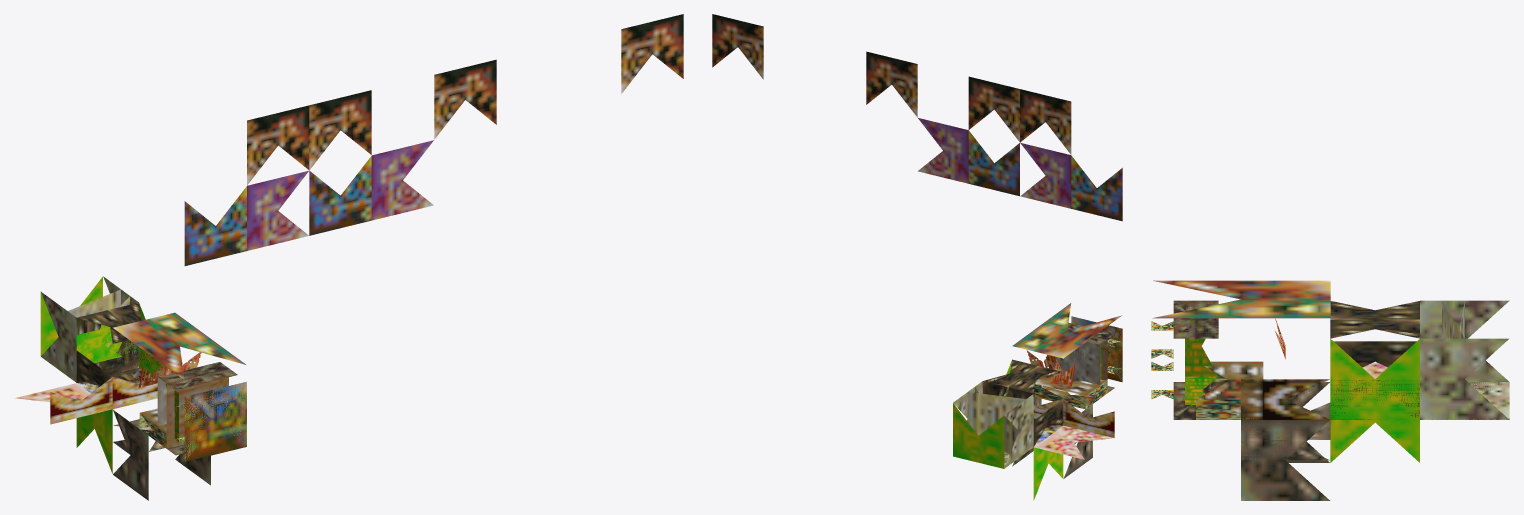
The model's file is town_geometry_type_15.obj.
3 renders of one model, left to right at view 1: azimuth 30°, elevation 25°; view 2: azimuth 150°, elevation 25°; view 3: azimuth 270°, elevation 25°, orthographic. The views are drawn at different scales.
Parts seen in each view (by area): view 1: face_list_094, face_list_024, face_list_026, face_list_027, face_list_023, face_list_025, face_list_028, face_list_022, face_list_000, face_list_021, face_list_043, face_list_054 (+12 smaller); view 2: face_list_094, face_list_021, face_list_025, face_list_022, face_list_026, face_list_028, face_list_023, face_list_027, face_list_088, face_list_024, face_list_097, face_list_099 (+14 smaller); view 3: face_list_062, face_list_043, face_list_094, face_list_061, face_list_045, face_list_055, face_list_054, face_list_097, face_list_077, face_list_047, face_list_085, face_list_095 (+6 smaller).
Part boxes in pixels (box(x1,y1,x2,y2)): face_list_094: box(113, 312, 245, 451); face_list_024: box(371, 140, 433, 220); face_list_026: box(309, 90, 371, 170); face_list_027: box(434, 59, 496, 139); face_list_023: box(247, 105, 309, 185); face_list_025: box(309, 156, 371, 235); face_list_028: box(621, 14, 683, 93); face_list_022: box(184, 186, 246, 265); face_list_000: box(184, 382, 246, 461); face_list_021: box(247, 170, 308, 250); face_list_043: box(113, 410, 210, 500); face_list_054: box(41, 292, 104, 387); face_list_094: box(1012, 303, 1121, 358); face_list_021: box(1020, 142, 1071, 208); face_list_025: box(968, 130, 1019, 196); face_list_022: box(1071, 155, 1122, 221); face_list_026: box(968, 76, 1019, 141); face_list_028: box(712, 14, 763, 79); face_list_023: box(1020, 89, 1071, 154); face_list_027: box(866, 51, 917, 117); face_list_088: box(953, 403, 1004, 468); face_list_024: box(918, 118, 968, 183); face_list_097: box(1034, 376, 1107, 409); face_list_099: box(967, 392, 1025, 435); face_list_062: box(1330, 319, 1419, 419); face_list_043: box(1241, 382, 1508, 500); face_list_094: box(1152, 280, 1330, 439); face_list_061: box(1420, 338, 1509, 419); face_list_045: box(1241, 379, 1509, 419); face_list_055: box(1330, 301, 1419, 462); face_list_054: box(1420, 300, 1509, 381); face_list_097: box(1196, 361, 1263, 419); face_list_077: box(1185, 318, 1218, 404); face_list_047: box(1334, 341, 1416, 367); face_list_085: box(1151, 301, 1218, 338); face_list_095: box(1241, 382, 1329, 460).
Bounding box in the file's own units: 576 × 384 × 256.
37 materials, 37 textured.
